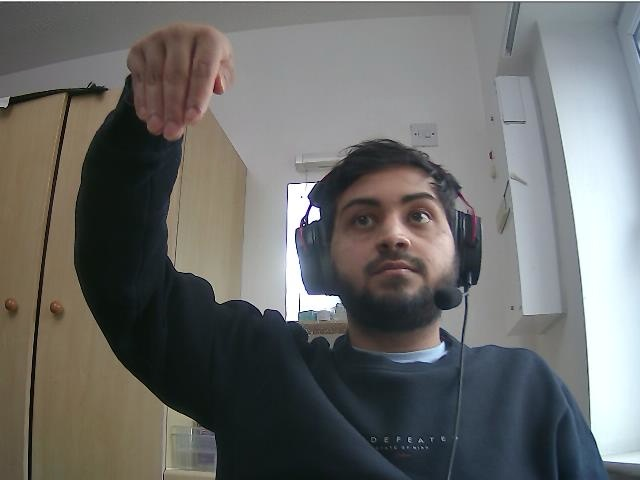down: (124, 20, 234, 145)
